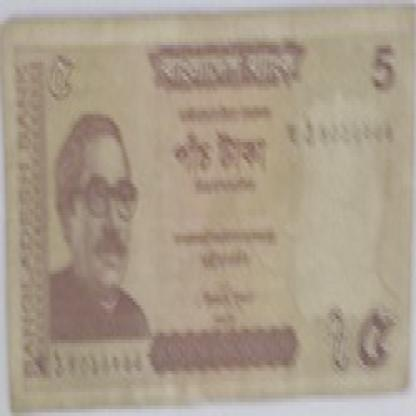Five Taka: (170, 118, 271, 187), (358, 302, 396, 381), (36, 48, 80, 111), (372, 31, 402, 108)
